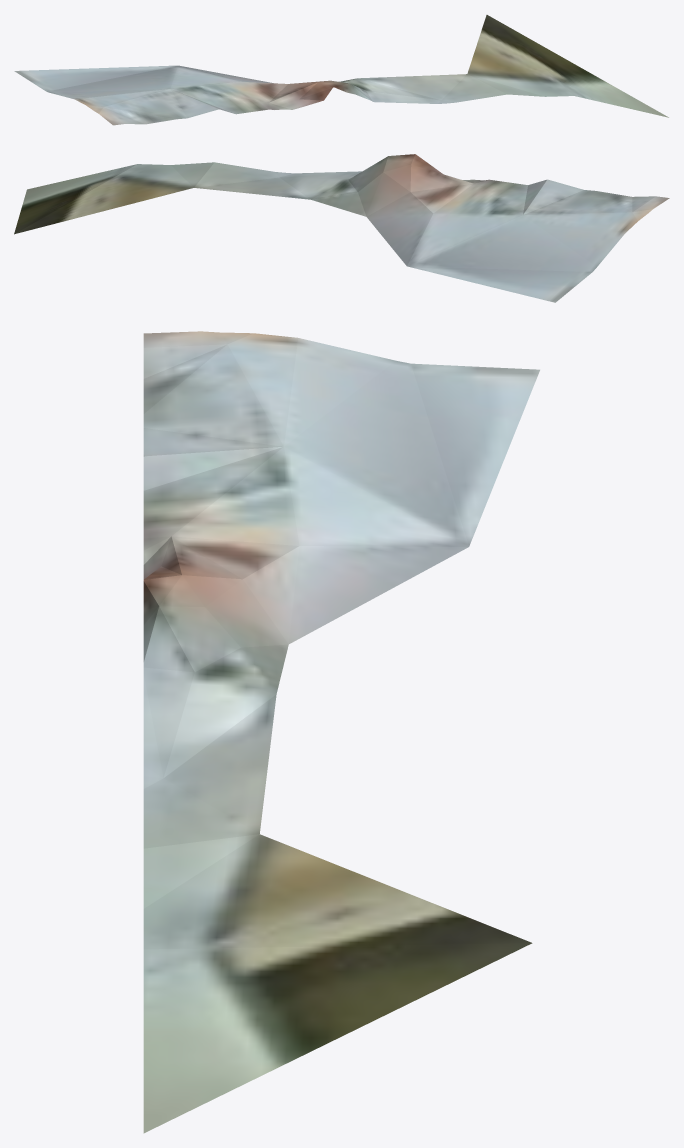
3 views of the same model, one above another, from view 1: azimuth 30°, elevation 25°; view 2: azimuth 150°, elevation 25°; view 3: azimuth 270°, elevation 25° (orthographic). The views are drawn at different scales.
Bounding box in the file's own units: 4.2 × 0.9323 × 1.3.
Materials: 1 (1 with a texture image).
